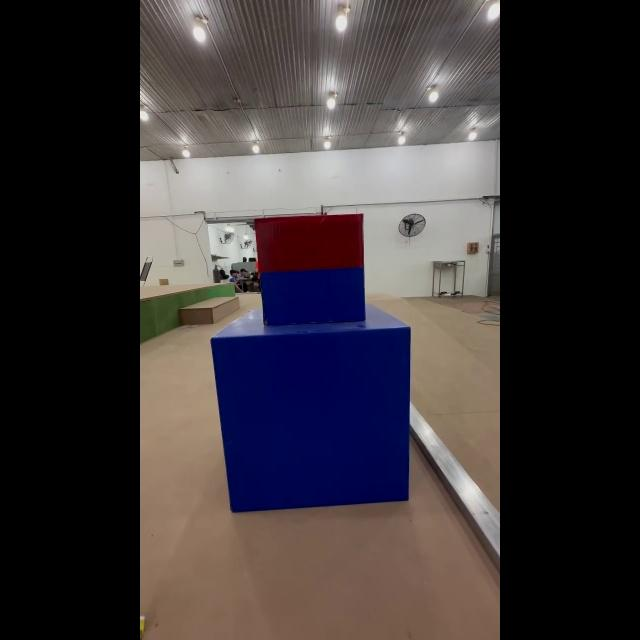sky_block: (256, 213, 370, 326)
